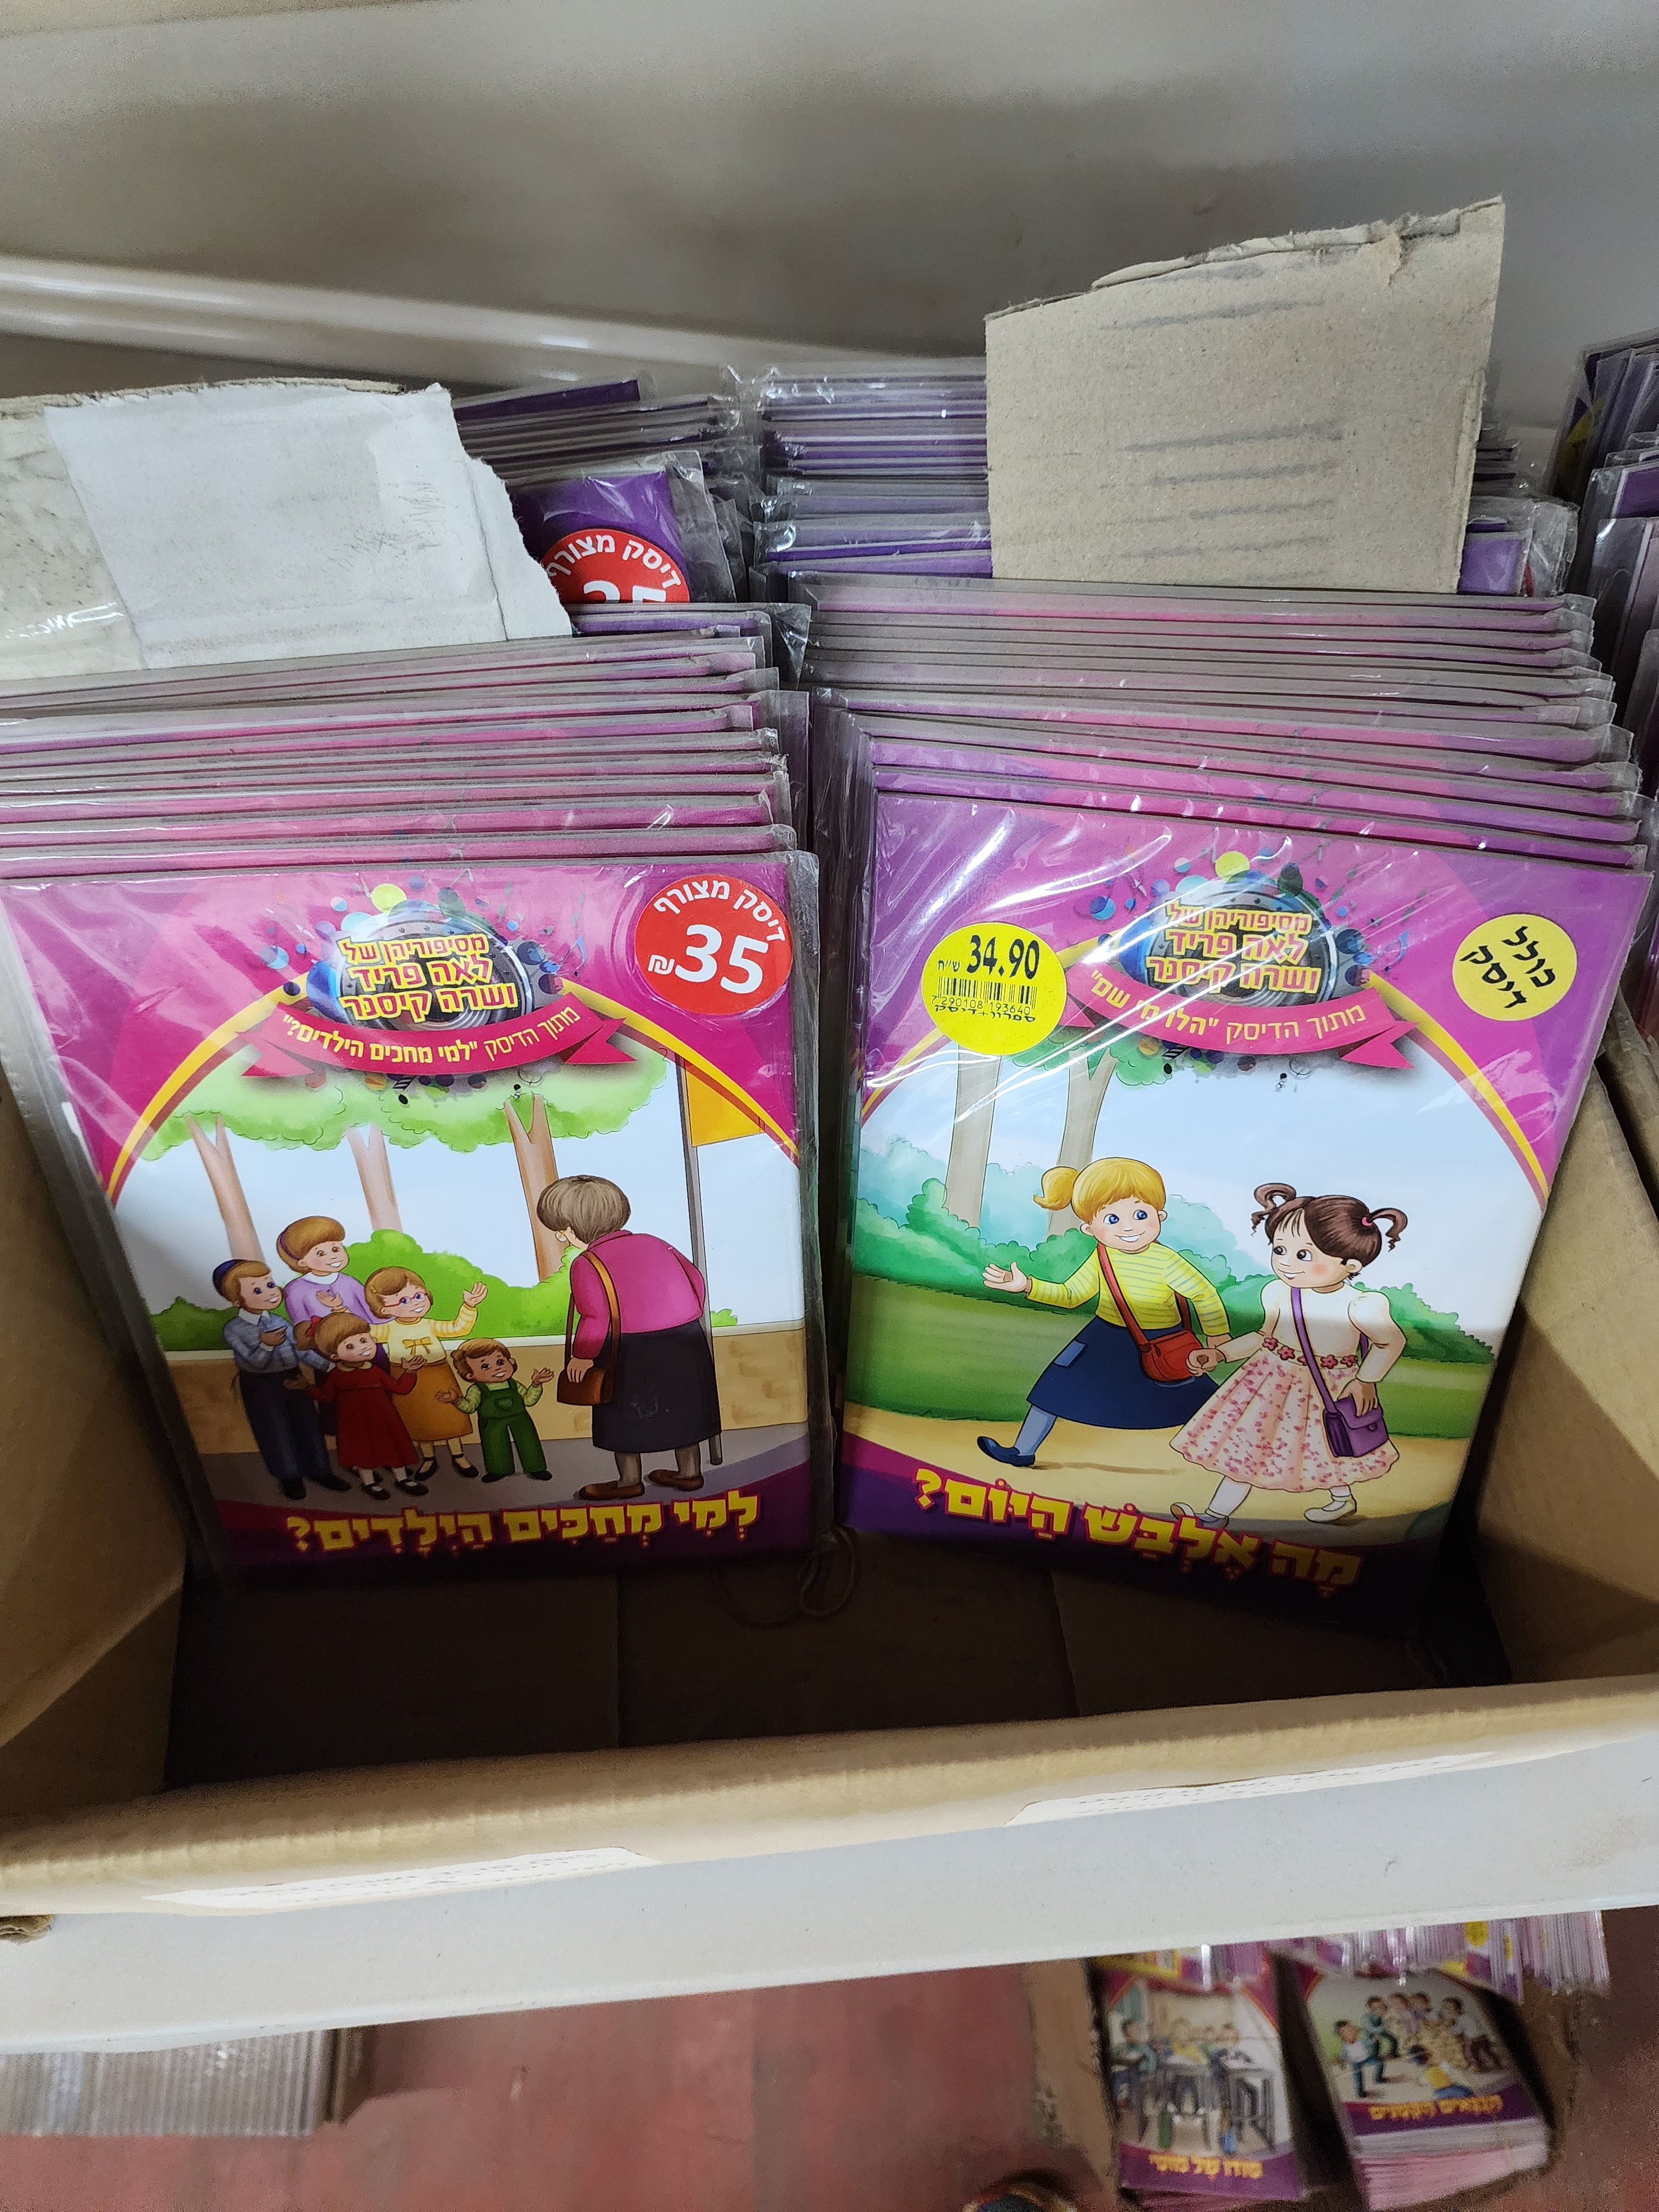other: (769, 307, 1624, 1564), (2, 329, 840, 1583)
